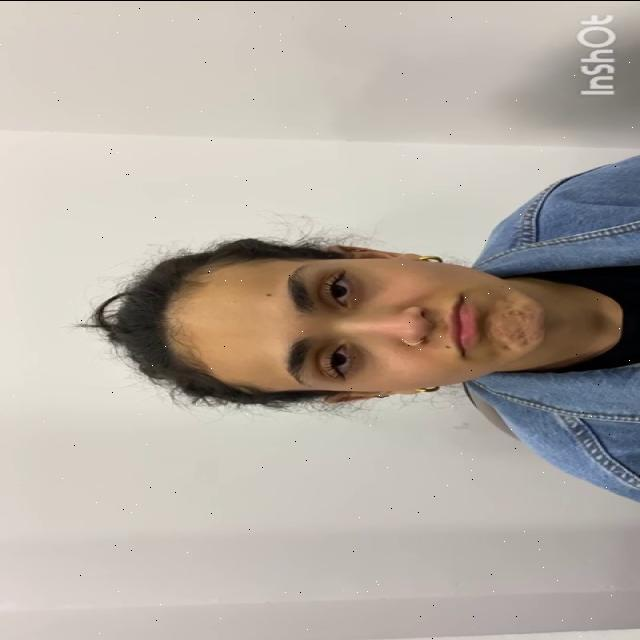natural: (190, 256, 540, 397)
